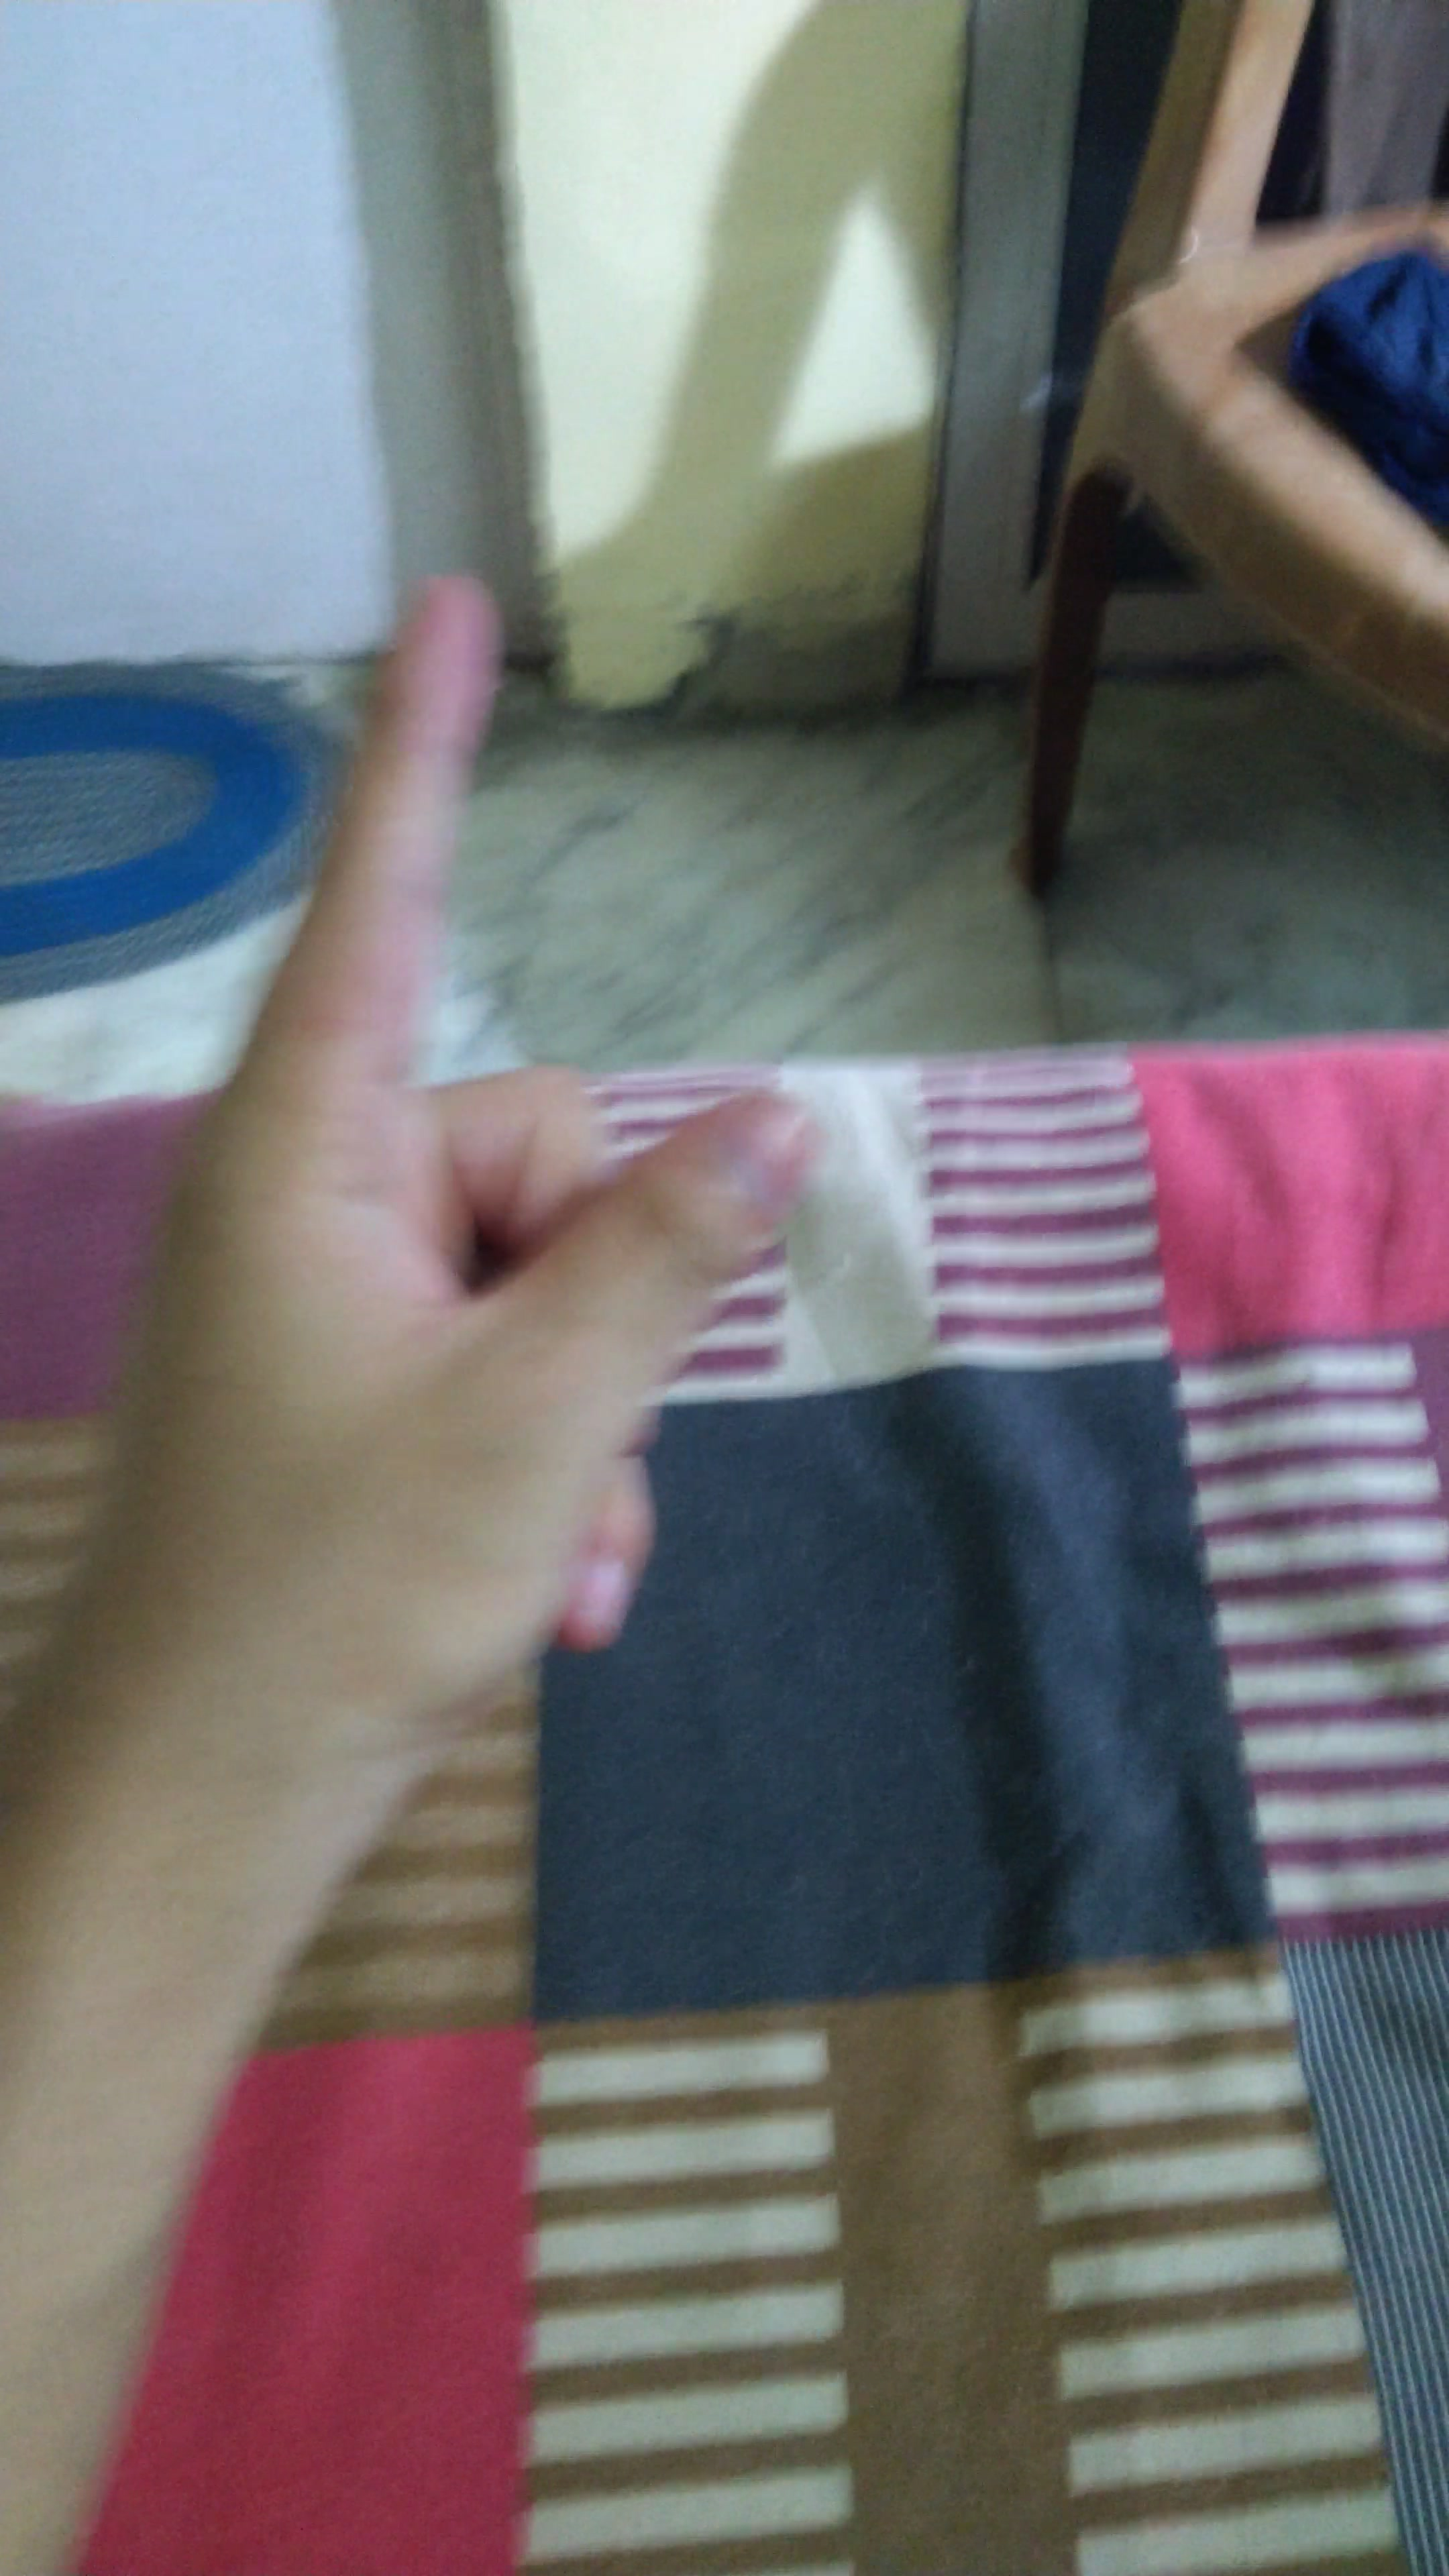hand: (27, 522, 870, 1762)
